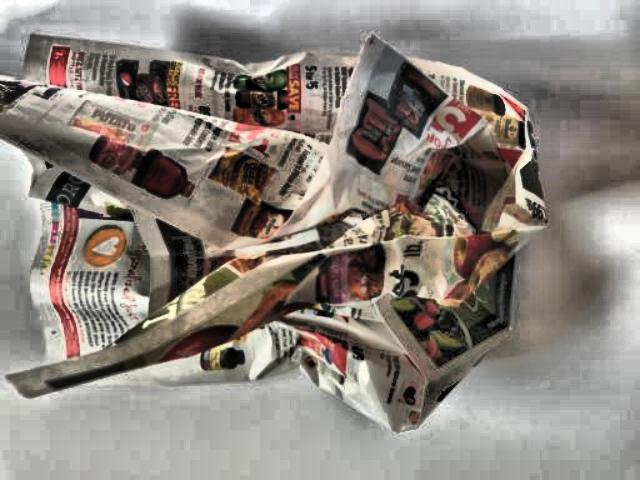Paper: (4, 22, 559, 445)
